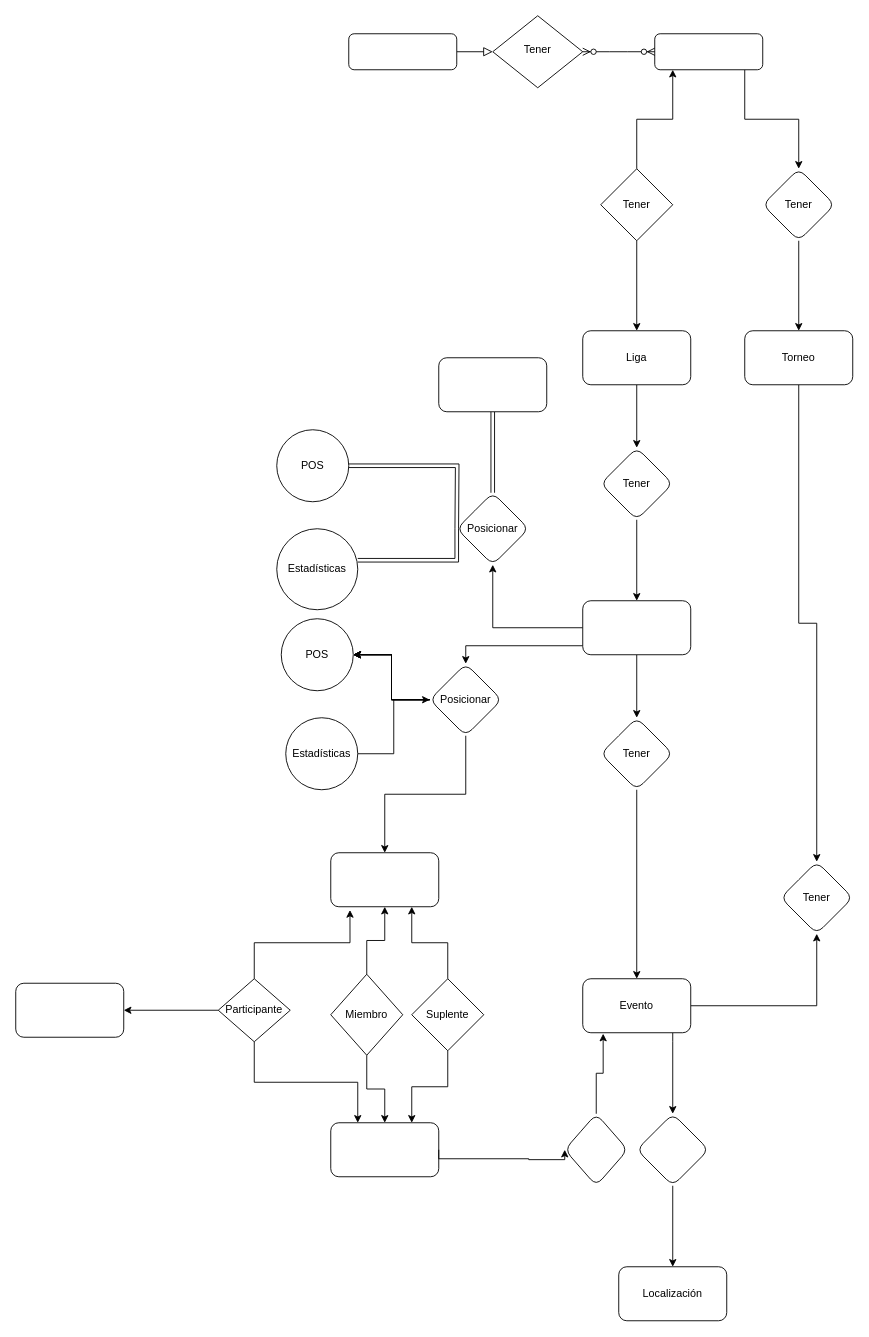
The diagram is 869 pixels wide and 1337 high, and some of its shapes have lost their labels. Here are the shapes that lost their labels. From the top down, the centre of each, then its label:
At (x=402, y=51): "Modalidad Deportiva".
At (x=708, y=51): "Campeonato".
At (x=492, y=384): "Facultad".
At (x=636, y=627): "Grupo".
At (x=384, y=879): "Atleta".
At (x=69, y=1009): "Puntuación".
At (x=384, y=1149): "Equipo_Puntuación_ Especifica".
At (x=596, y=1149): "Pertenece".
At (x=672, y=1149): "Realizar".
